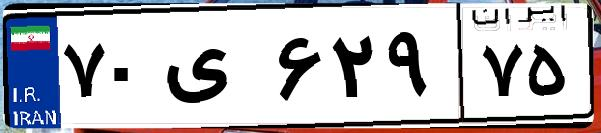0: (110, 28, 158, 98)
2: (330, 28, 385, 110)
5: (525, 38, 570, 115)
6: (270, 28, 330, 110)
7: (57, 26, 110, 100), (475, 38, 525, 113)
9: (385, 28, 445, 110)
ی: (158, 20, 270, 120)
